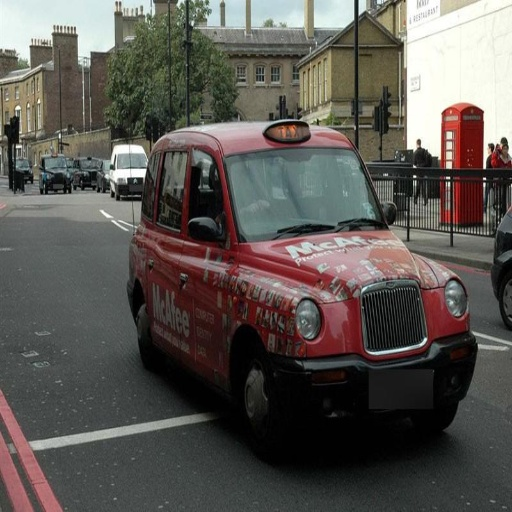front_bumper: (357, 284, 469, 407)
front_right_door: (170, 139, 231, 372)
hood: (245, 228, 444, 301)
